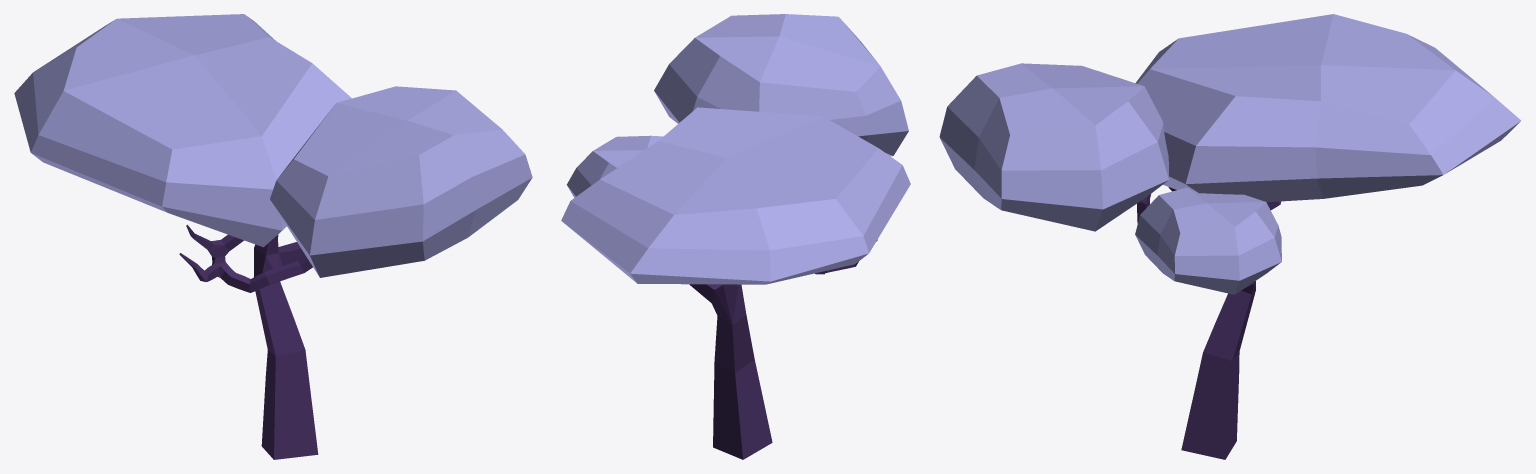
Rendered from Tree_00.fbx.
3 views of the same model, side by side, from view 1: azimuth 30°, elevation 25°; view 2: azimuth 150°, elevation 25°; view 3: azimuth 270°, elevation 25° (orthographic). The views are drawn at different scales.
Parts seen in each view (by area): view 1: Tree_00; view 2: Tree_00; view 3: Tree_00.
Boxes of the visible parts, x1,y1,x2,y2 form: Tree_00: (14, 14, 532, 459); Tree_00: (561, 14, 910, 459); Tree_00: (939, 14, 1521, 459).
Bounding box in the file's own units: 1166 × 1132 × 1577.
